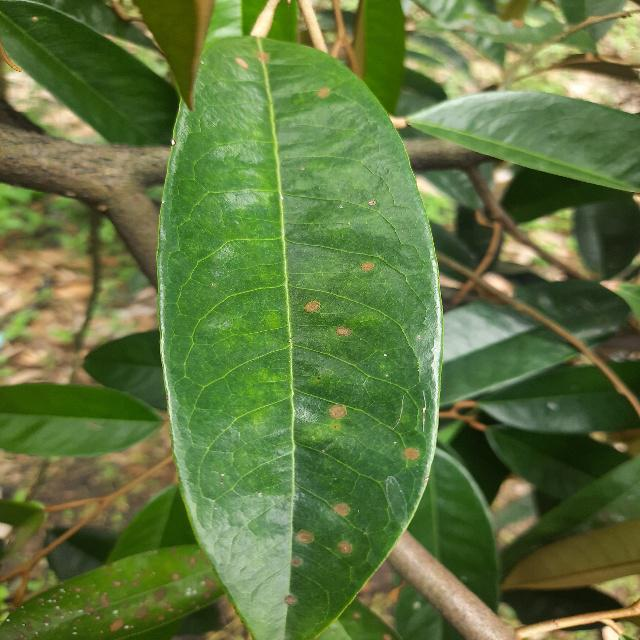Algal Leaf Spot: (149, 25, 451, 639)
